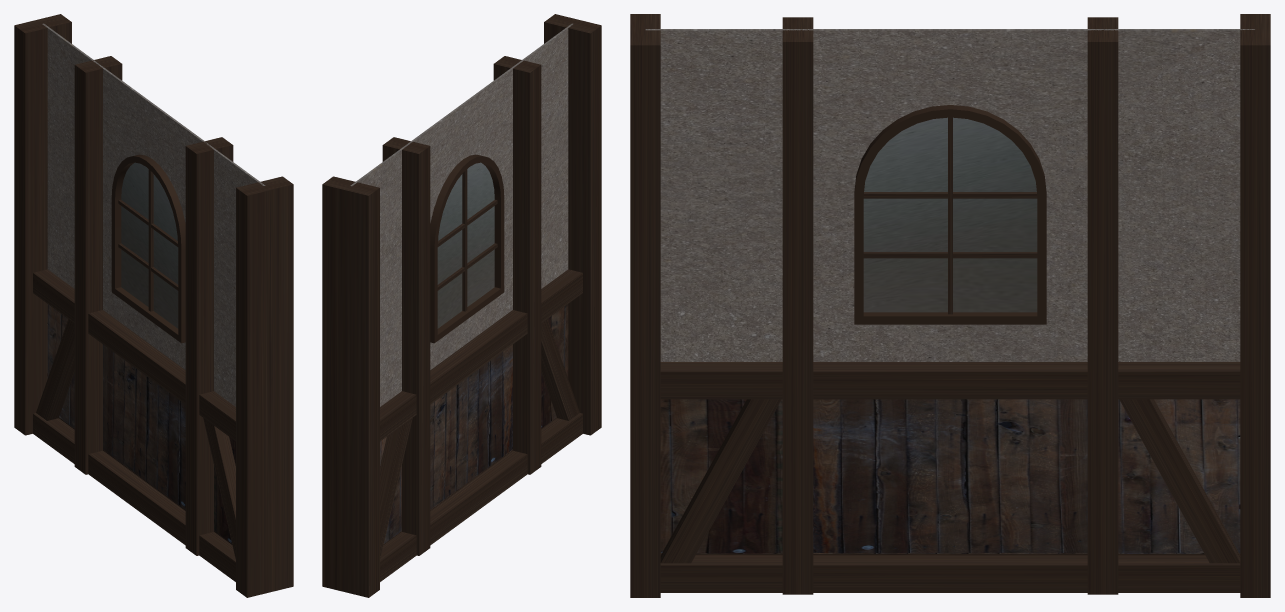
File: OutdoorArchitecture_BasicWall01_Window01_BothEdges_BShortt.fbx
The picture shows the model from 3 angles, left to right: view 1: azimuth 30°, elevation 25°; view 2: azimuth 150°, elevation 25°; view 3: azimuth 270°, elevation 25°; orthographic projection. The views are drawn at different scales.
Visible parts, largest first — view 1: OutdoorArchitecture_BasicWall01_Window01_BothEdges_BShortt; view 2: OutdoorArchitecture_BasicWall01_Window01_BothEdges_BShortt; view 3: OutdoorArchitecture_BasicWall01_Window01_BothEdges_BShortt.
Part boxes in pixels (left/top/right/bottom): OutdoorArchitecture_BasicWall01_Window01_BothEdges_BShortt: left=14, top=14, right=293, bottom=597; OutdoorArchitecture_BasicWall01_Window01_BothEdges_BShortt: left=322, top=14, right=601, bottom=597; OutdoorArchitecture_BasicWall01_Window01_BothEdges_BShortt: left=630, top=14, right=1270, bottom=597.
Bounding box in the file's own units: 36.37 × 300 × 315.
